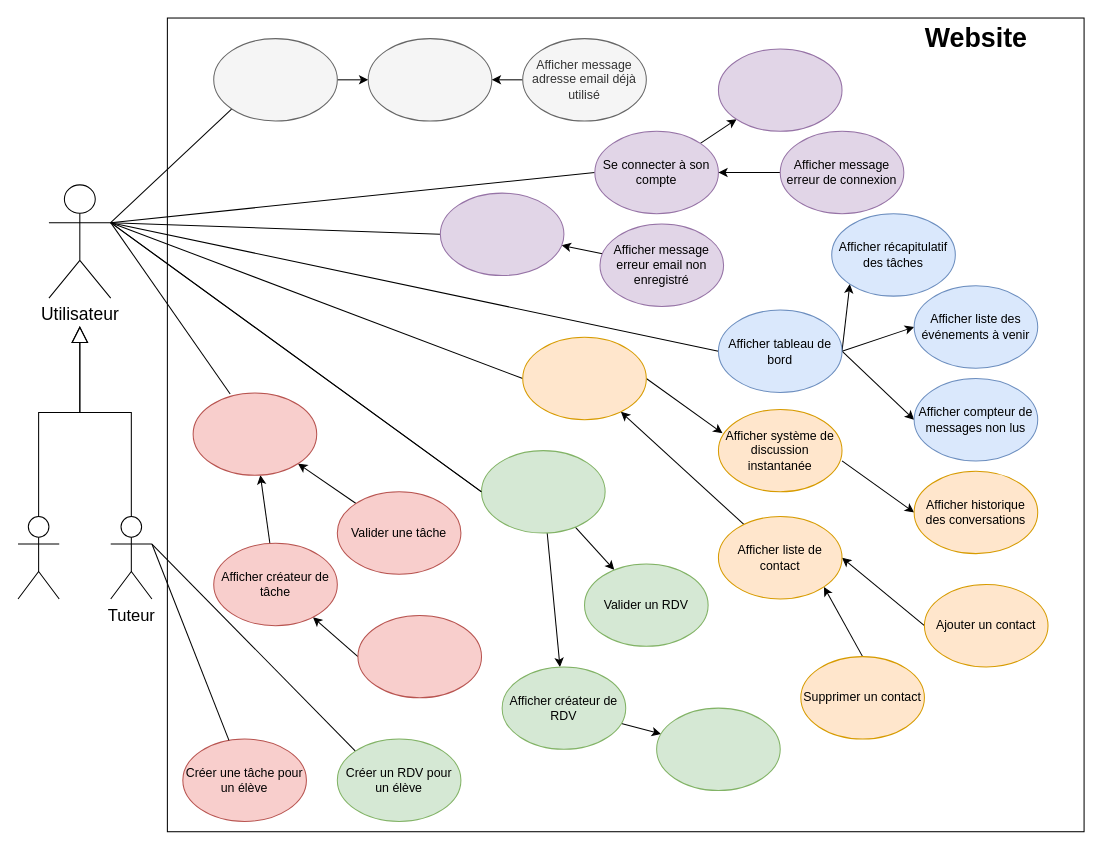
This 1102x850 diagram has some shape labels left out. The shapes that lost their labels are listed below. From the top down, each one's box as (x1, y1, x2, y2) in pixels, then its label:
(213, 38, 337, 121): Créer un compte
(367, 38, 492, 121): Afficher page créer un compte
(717, 48, 842, 131): Vérifier les identifiants
(439, 192, 564, 276): Récupérer mot de passe oublié
(522, 336, 646, 420): Afficher interface de chat
(192, 392, 317, 475): Afficher gestionnaire de tâches
(480, 450, 605, 533): Afficher calendrier
(17, 516, 59, 599): Élève
(357, 614, 482, 698): Créer une tâche pour soi
(656, 707, 780, 791): Créer un RDV pour soi
